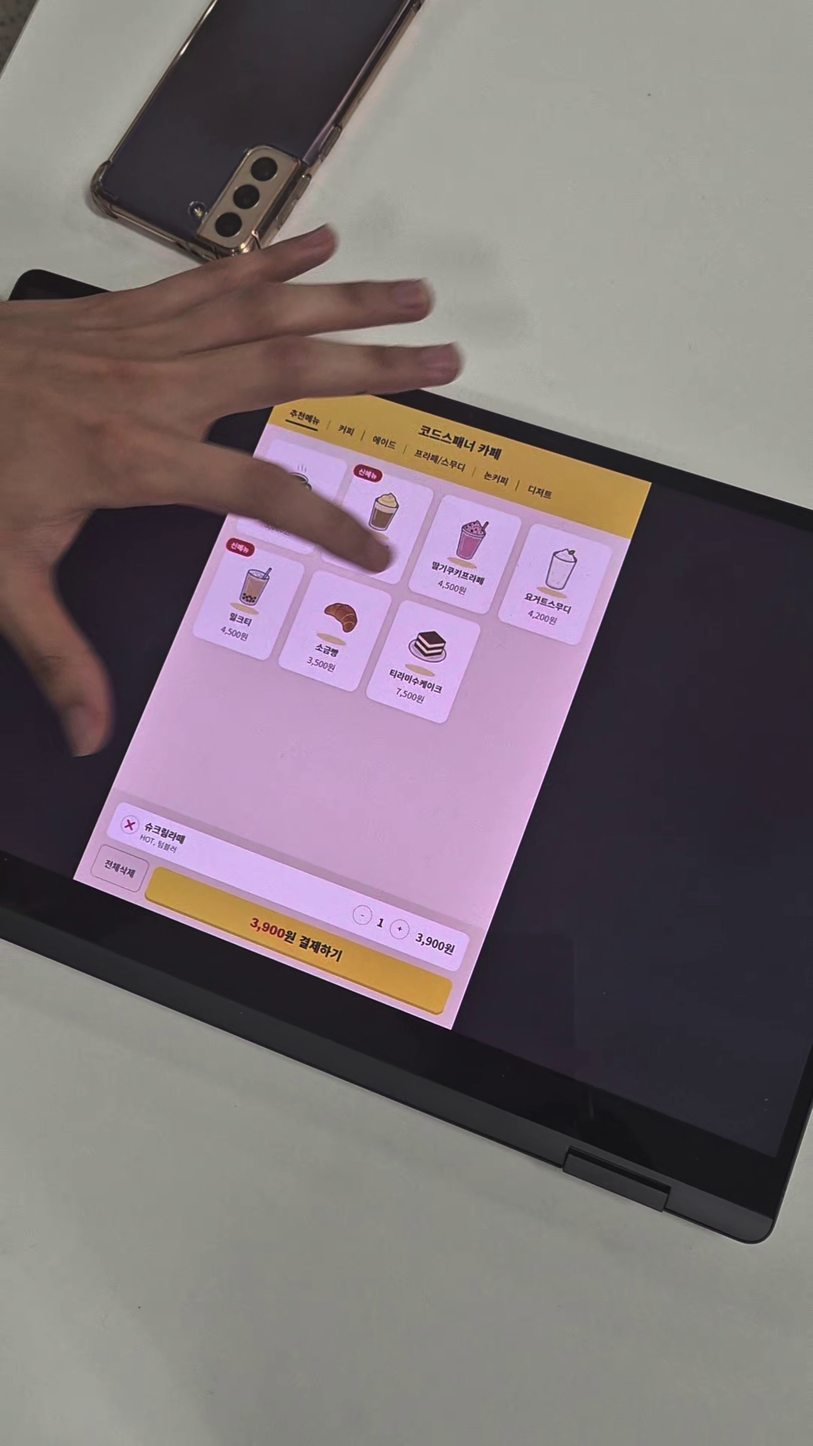action_button: (139, 866, 458, 1020), (85, 846, 153, 897)
cart_item: (101, 799, 472, 977)
category_tab: (412, 447, 472, 476), (282, 404, 326, 431), (524, 480, 561, 506), (476, 467, 513, 489), (368, 433, 403, 454), (334, 421, 358, 438)
menu_back: (489, 519, 618, 655), (358, 595, 485, 732), (273, 565, 398, 697), (183, 533, 307, 665), (401, 489, 524, 619)
menu_name: (425, 556, 491, 591), (386, 666, 448, 698), (519, 589, 575, 620), (309, 638, 344, 662), (224, 610, 255, 629)
menu_price: (302, 651, 340, 676), (390, 684, 429, 708), (433, 576, 471, 600), (215, 622, 251, 645), (525, 607, 560, 629)
